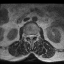CCS_normal: (30, 32, 32, 41)
LFS_normal: (34, 32, 36, 38)
LLS_normal: (32, 32, 34, 39)
RFS_normal: (26, 32, 28, 39)
RLS_normal: (28, 32, 30, 40)
